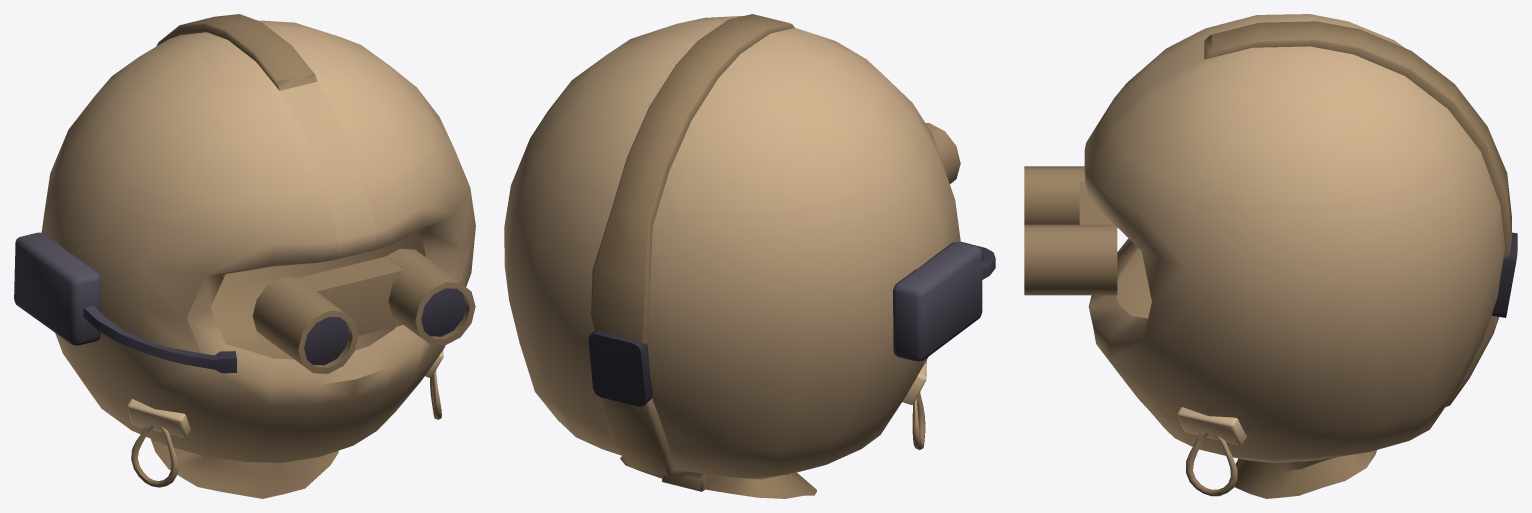
The model's file is sniper_Hat.fbx.
3 renders of one model, left to right at view 1: azimuth 30°, elevation 25°; view 2: azimuth 150°, elevation 25°; view 3: azimuth 270°, elevation 25°, orthographic. The views are drawn at different scales.
Parts seen in each view (by area): view 1: Circle.001; view 2: Circle.001; view 3: Circle.001.
Part boxes in pixels (box(x1,y1,x2,y2)): Circle.001: box(14, 14, 475, 498); Circle.001: box(504, 14, 995, 498); Circle.001: box(1024, 14, 1517, 498).
Bounding box in the file's own units: 0.6895 × 0.7183 × 0.7185.
Materials: 1 (1 with a texture image).
